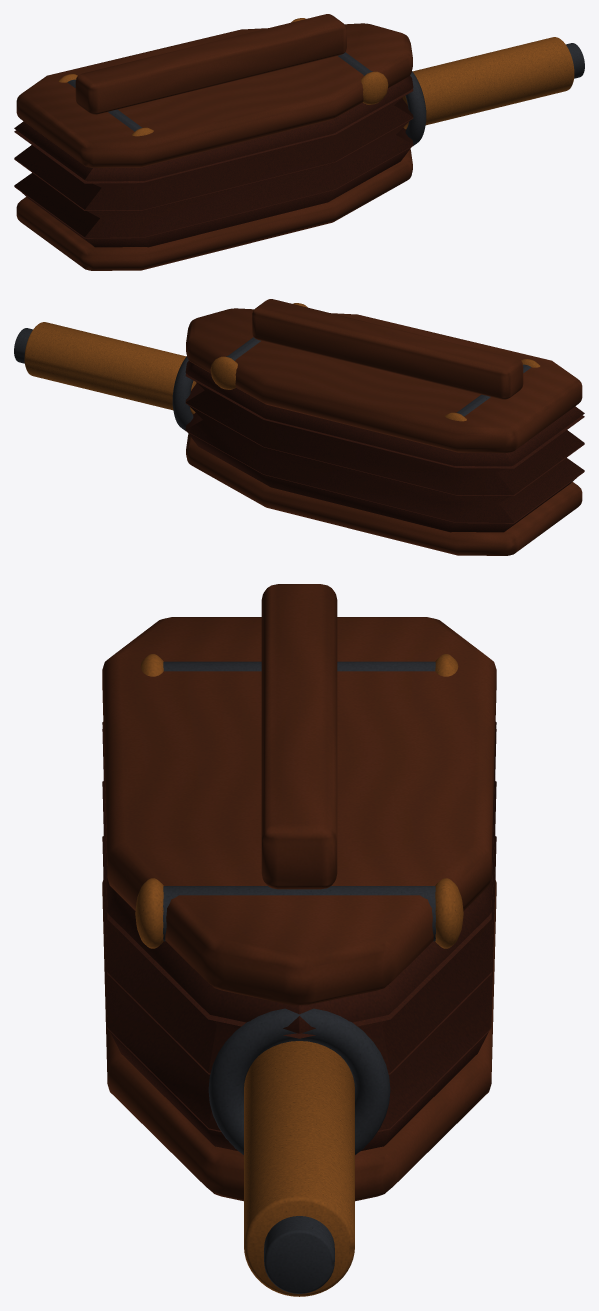
Rendered from bellows.glb.
3 renders of one model, top to bottom at view 1: azimuth 30°, elevation 25°; view 2: azimuth 150°, elevation 25°; view 3: azimuth 270°, elevation 25°, orthographic. The views are drawn at different scales.
Visible parts, largest first — view 1: bellows; view 2: bellows; view 3: bellows.
Boxes of the visible parts, x1,y1,x2,y2 form: bellows: [14, 14, 584, 270]; bellows: [14, 299, 584, 555]; bellows: [102, 584, 496, 1296].
Bounding box in the file's own units: 2.41 × 0.7 × 0.78.
Materials: 4 (4 with a texture image).
